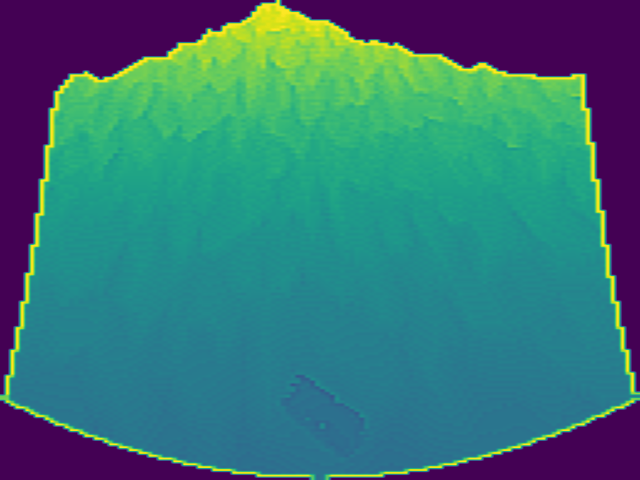car_0198: (280, 374, 366, 452)
